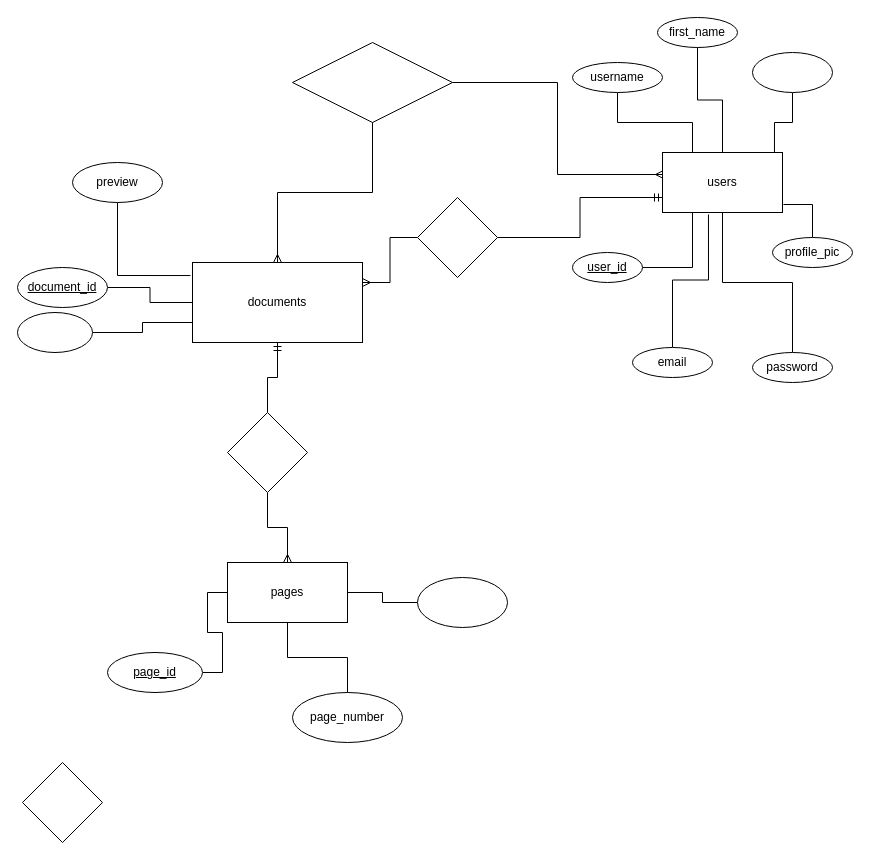
Some shapes in this 870 by 860 pixel diagram are drawn without their labels. The shapes that lost their labels are listed below. From the top down, each one's centre as x and y in pixels, then its label:
At (372,82): "documents_users".
At (792,72): "last_name".
At (457,237): "owns".
At (54,332): "title".
At (267,452): "has".
At (462,602): "text_content".
